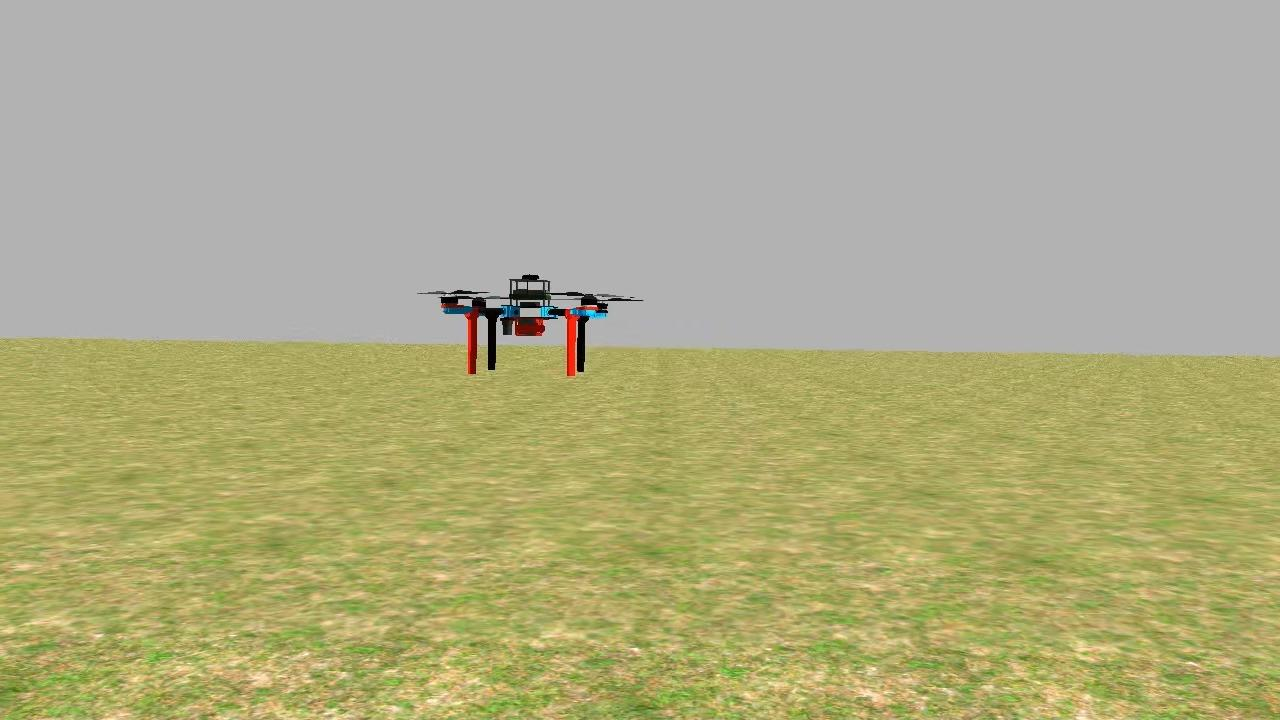UAV: (436, 268, 618, 382)
